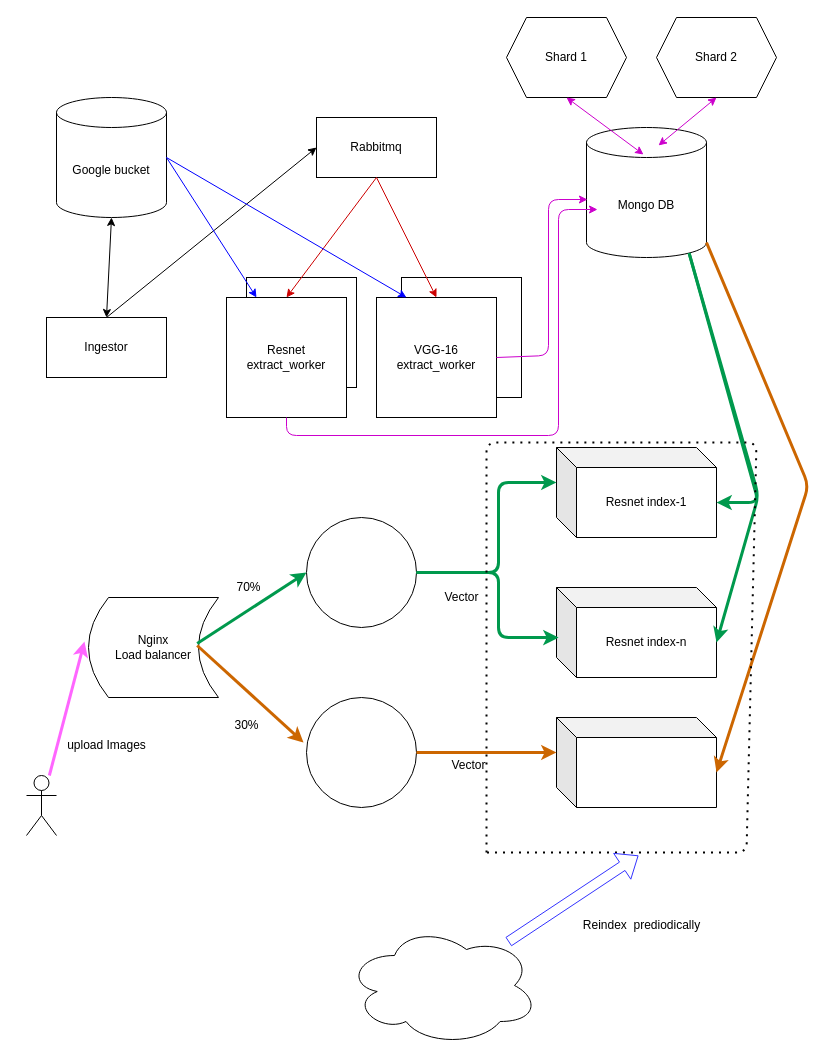
Image size: 835x1063. Some labels were removed from this diagram. The shapes that lost their labels are listed below. From the top down, each one's centre as x and y in pixels, then its label:
At pixel 361 572: "Resnet serving".
At pixel 361 752: "VGG16 serving".
At pixel 636 762: "VGG-16 index-1".
At pixel 41 805: "Searcher".
At pixel 442 985: "Airflow".
